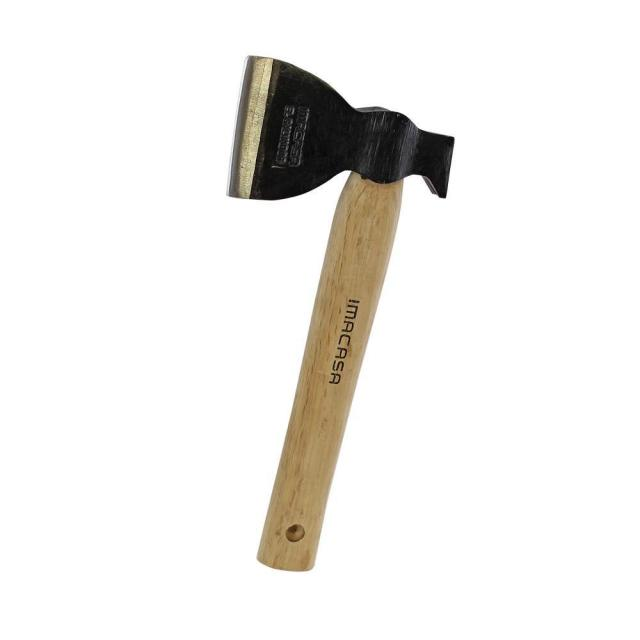Kapak: (220, 45, 458, 579)
